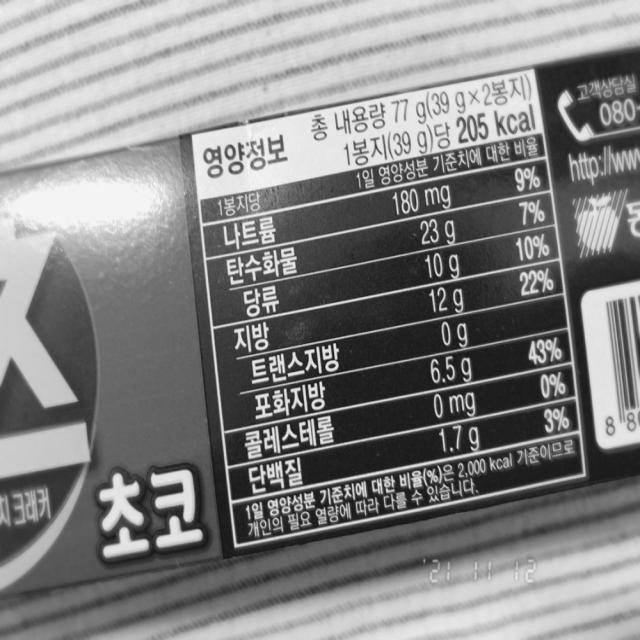Nutrition Label: (185, 59, 595, 554)
